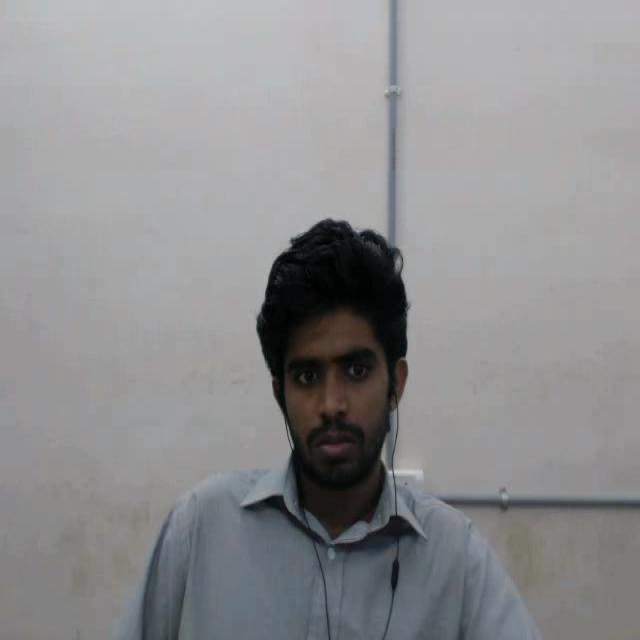Engaged: (234, 209, 442, 535)
